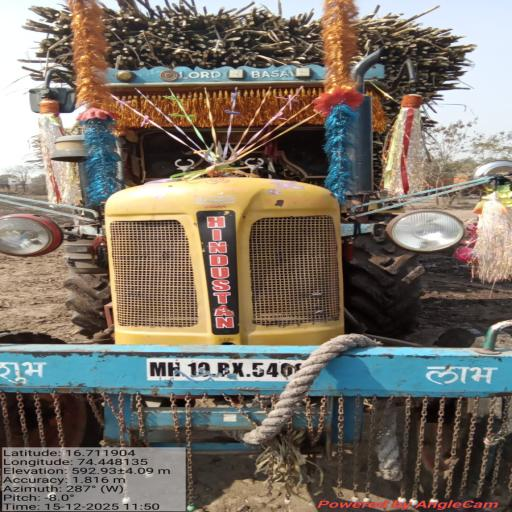number_plate: (142, 350, 313, 385)
